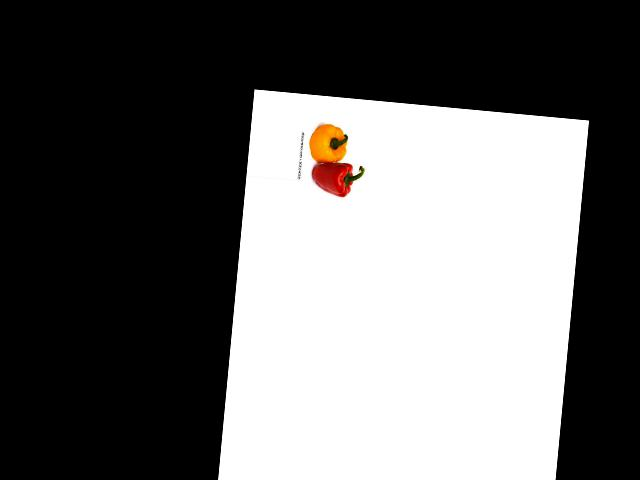bell_pepper: (304, 120, 352, 166)
